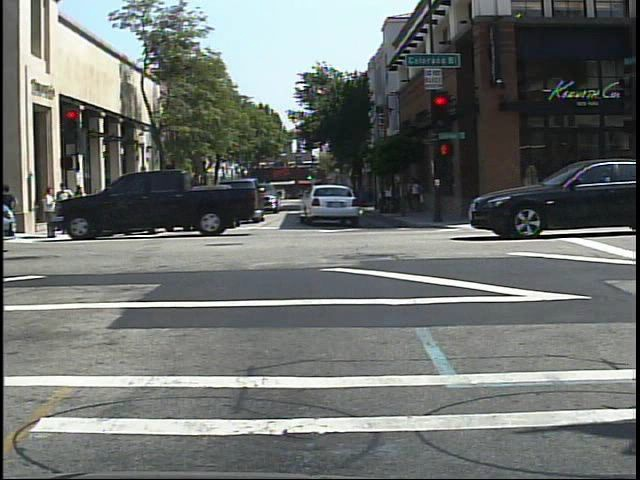person: (144, 180, 162, 219), (147, 180, 163, 216), (92, 187, 106, 228)
